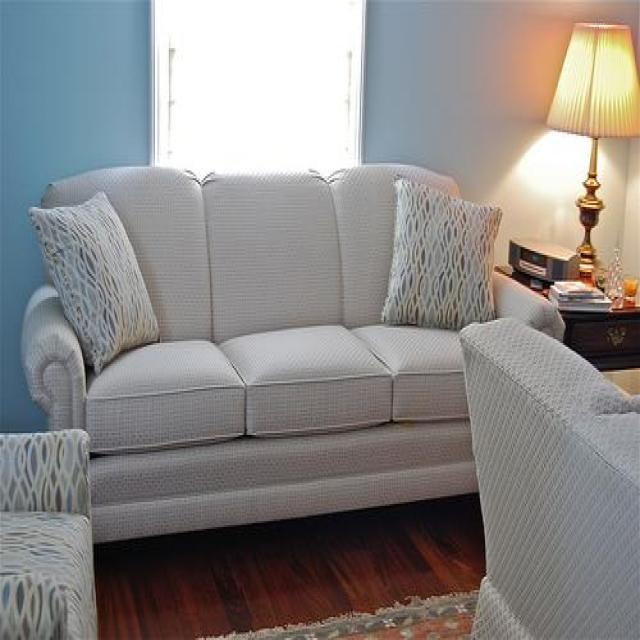sofa: (20, 165, 568, 547)
